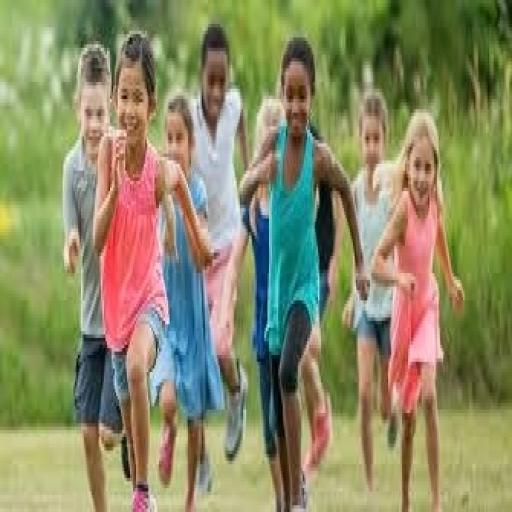running: (237, 34, 370, 509), (90, 27, 217, 509), (370, 109, 468, 509), (60, 38, 132, 508)
